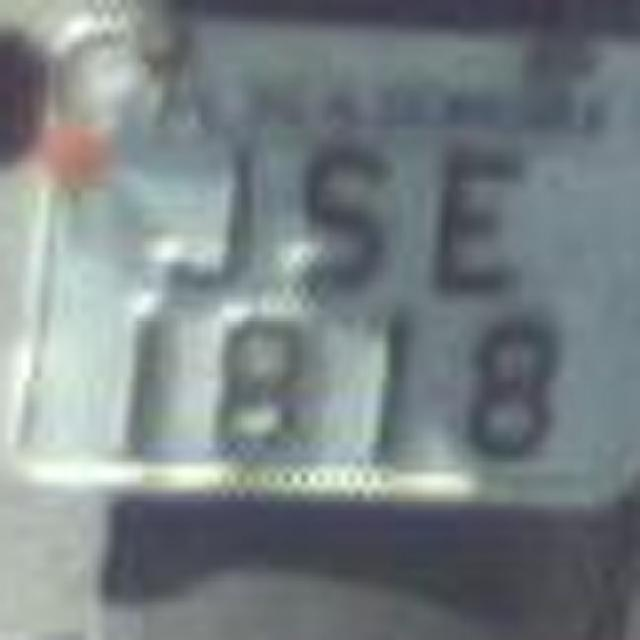1: (100, 308, 192, 464), (349, 308, 436, 464)
8: (196, 296, 336, 472), (452, 284, 576, 476)
9: (200, 288, 332, 472)
E: (412, 140, 540, 292)
J: (136, 140, 269, 305)
S: (280, 136, 408, 296)
